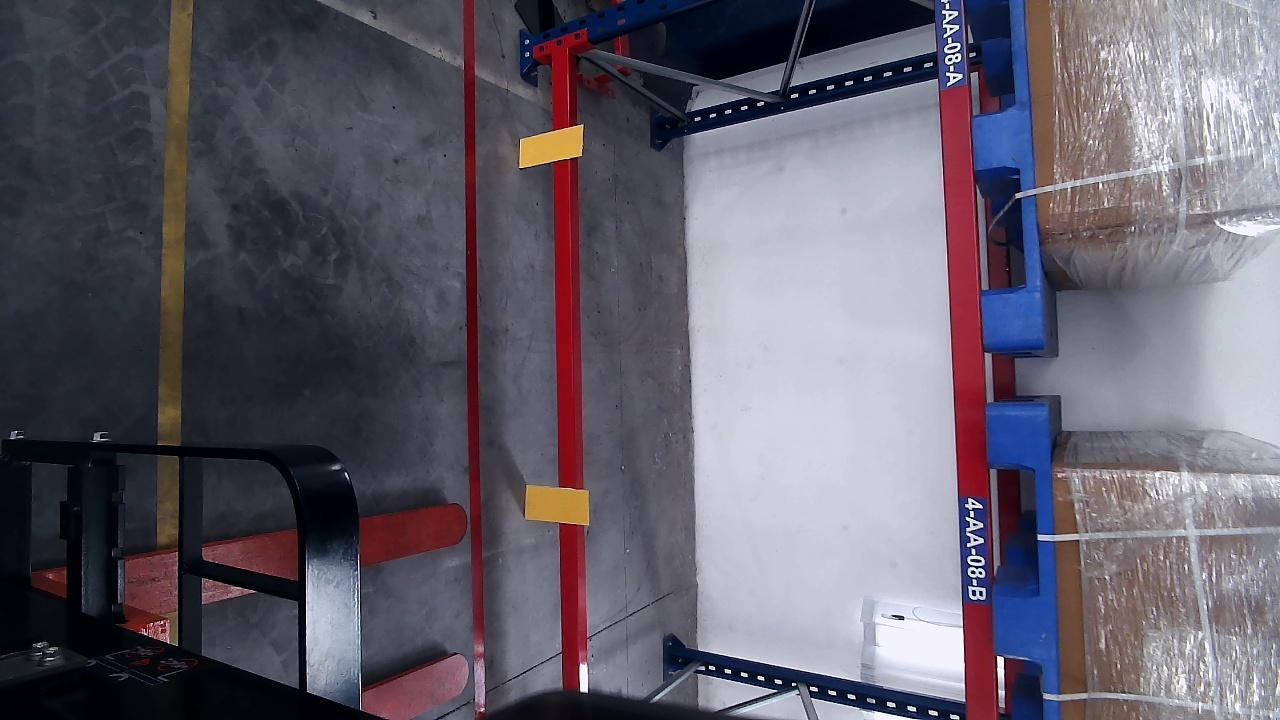h_rack: (934, 1, 995, 720), (548, 48, 587, 689)
orange_strip: (525, 485, 591, 525), (520, 126, 585, 166)
red_line: (460, 1, 489, 718)
small_pallet: (969, 1, 1048, 347), (984, 407, 1061, 719)
yellow_line: (157, 3, 195, 545)
